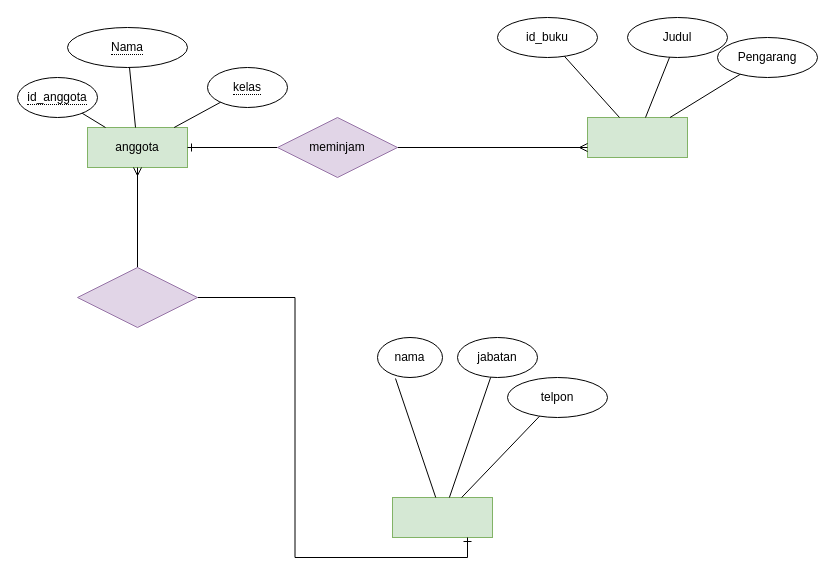
This 835x583 diagram has some shape labels left out. The shapes that lost their labels are listed below. From the top down, each one's centre as x and y in pixels, then its label:
point (637, 137): buku
point (137, 297): melayani
point (442, 517): pegawai
